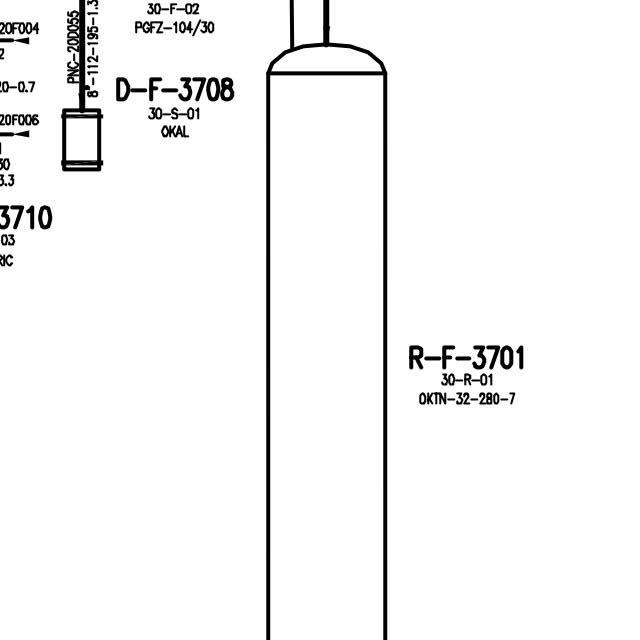D2: (53, 97, 112, 175)
R: (260, 36, 395, 640)
